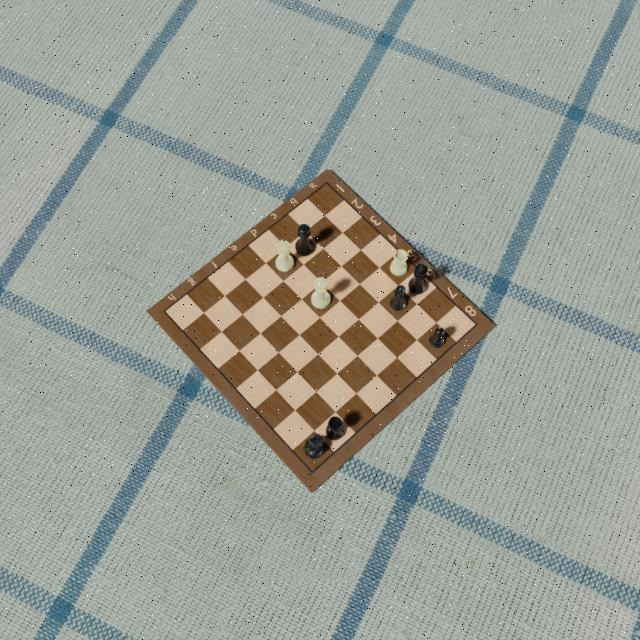black-bishop: (389, 284, 409, 312)
black-king: (294, 223, 314, 257)
black-knight: (303, 432, 325, 459)
black-pawn: (429, 326, 447, 349)
black-rook: (326, 415, 346, 441)
white-king: (310, 277, 331, 311)
white-queen: (275, 239, 295, 273), (408, 263, 428, 295)
white-rook: (391, 249, 409, 279)
